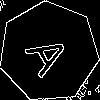A: (24, 27, 81, 80)
